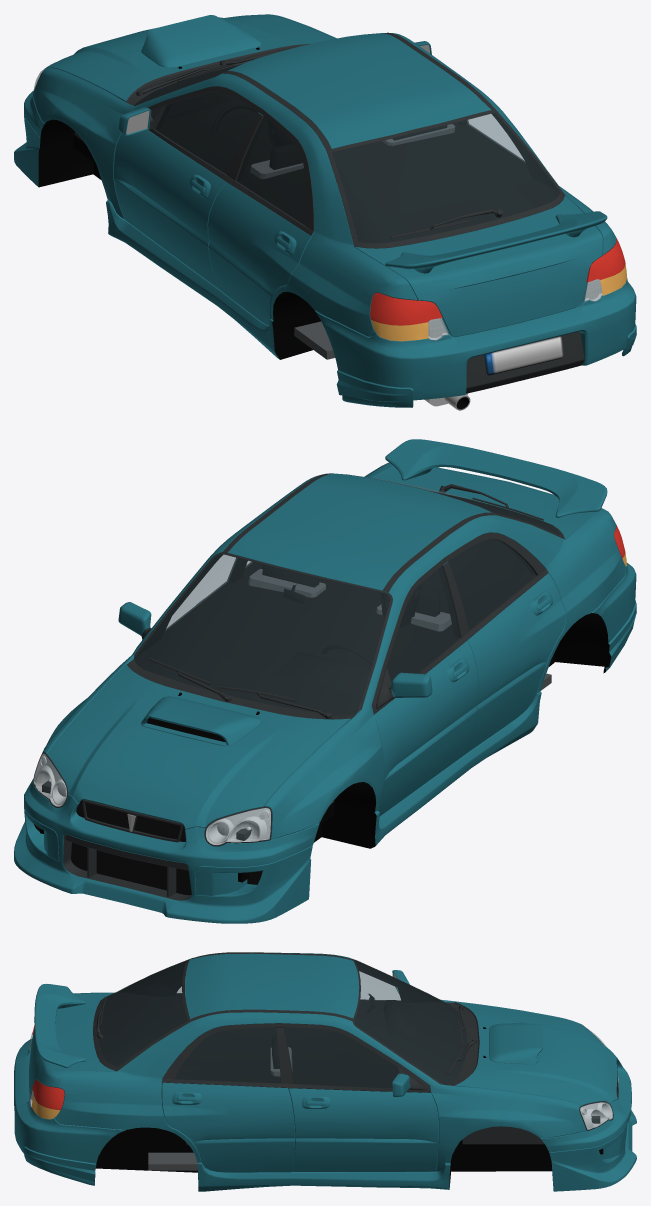
Rendered from sedan.gltf.
The picture shows the model from 3 angles, top to bottom: view 1: azimuth 30°, elevation 25°; view 2: azimuth 150°, elevation 25°; view 3: azimuth 270°, elevation 25°; orthographic projection. The views are drawn at different scales.
Visible parts, largest first — view 1: frame, boot, door-lf, door-lr, bonnet, door-rr; view 2: frame, bonnet, door-lf, door-lr, boot, door-rf; view 3: frame, door-rf, door-rr, bonnet, boot, door-lf.
Boxes of the visible parts, x1,y1,x2,y2 form: frame: (14,14,636,410); boot: (354,195,607,336); door-lf: (113,86,262,288); door-lr: (208,109,313,325); bonnet: (47,14,333,102); door-rr: (466,114,525,162); frame: (14,462,636,923); bonnet: (47,664,351,828); door-lf: (371,558,478,816); door-lr: (442,532,565,750); boot: (372,439,607,539); door-rf: (118,555,237,639); frame: (14,952,636,1191); door-rf: (280,1023,439,1171); door-rr: (161,1023,295,1172); bonnet: (454,1002,617,1105); boot: (29,983,116,1097); door-lf: (360,970,409,1000).
Size of the model in its own units: 1.95 by 1.3 by 4.44.
Materials: 9 (1 with a texture image).
